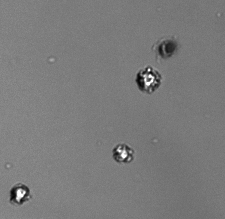Dead Cell: (157, 37, 181, 59)
Living Cell: (136, 65, 162, 94), (112, 141, 135, 164), (8, 183, 32, 205)
